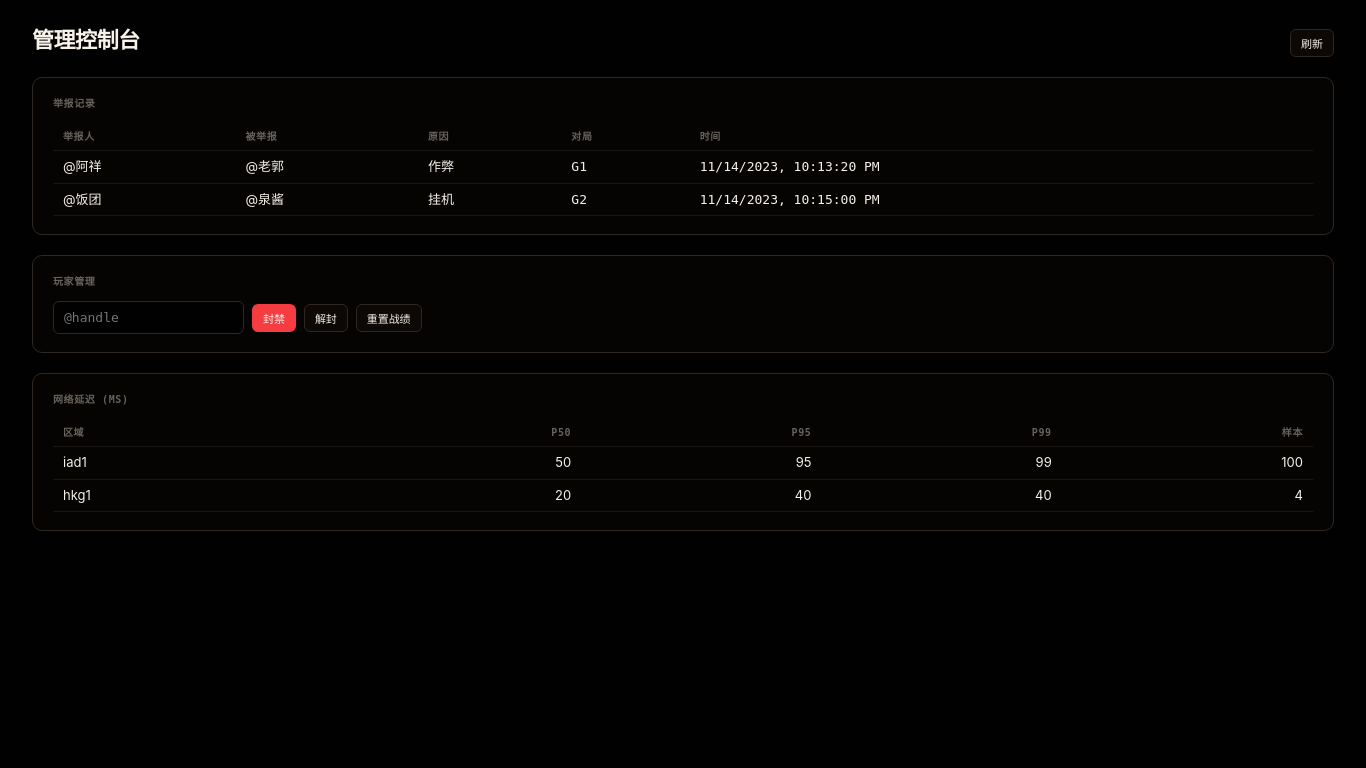
Test: AdminDashboard — moderation actions › bans the entered handle and shows confirmation
The image size is (1366, 768).
Check: the text "@老郭" is shown, box [236, 150, 418, 183]
Step 1. Type "@cheater" into the field named "玩家 handle" → (148,318), box [53, 301, 244, 334]
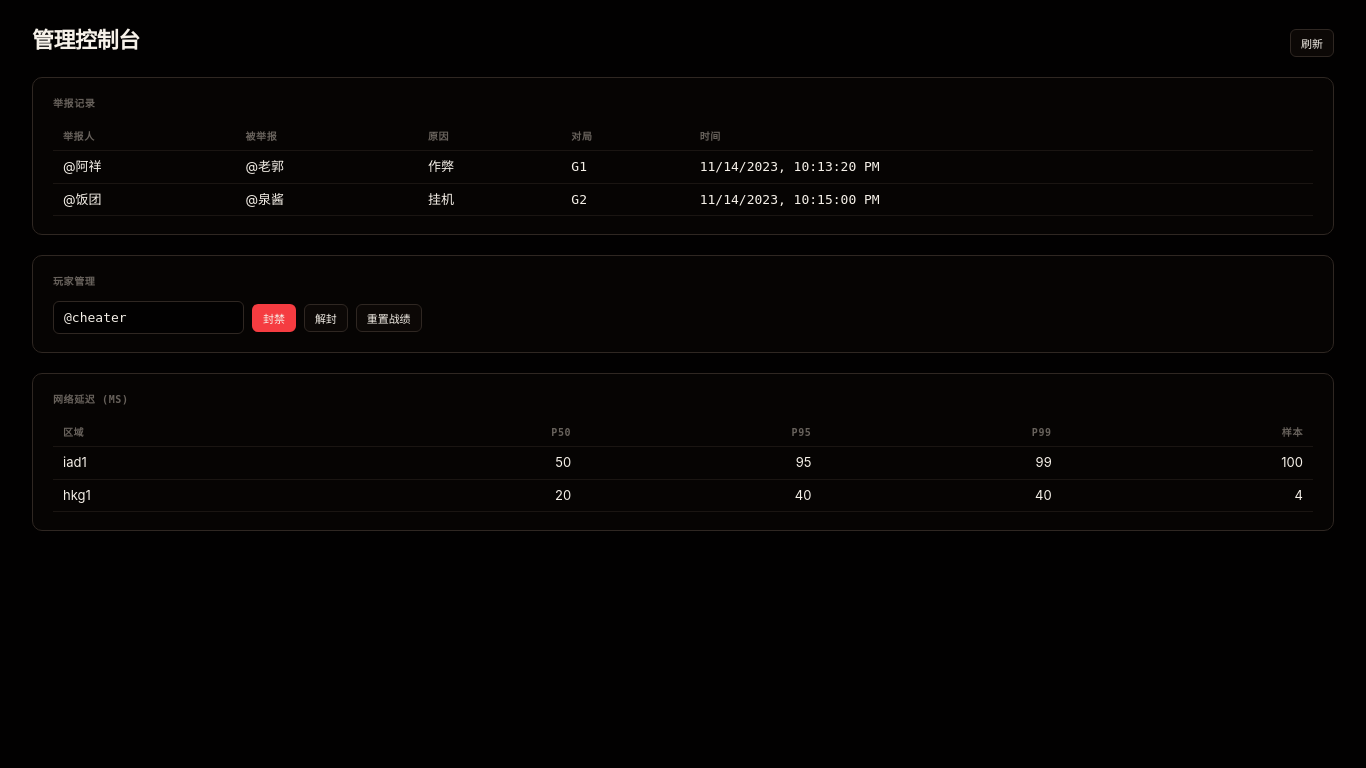
Step 2. Click the button "封禁" → (274,318), box [252, 304, 296, 332]
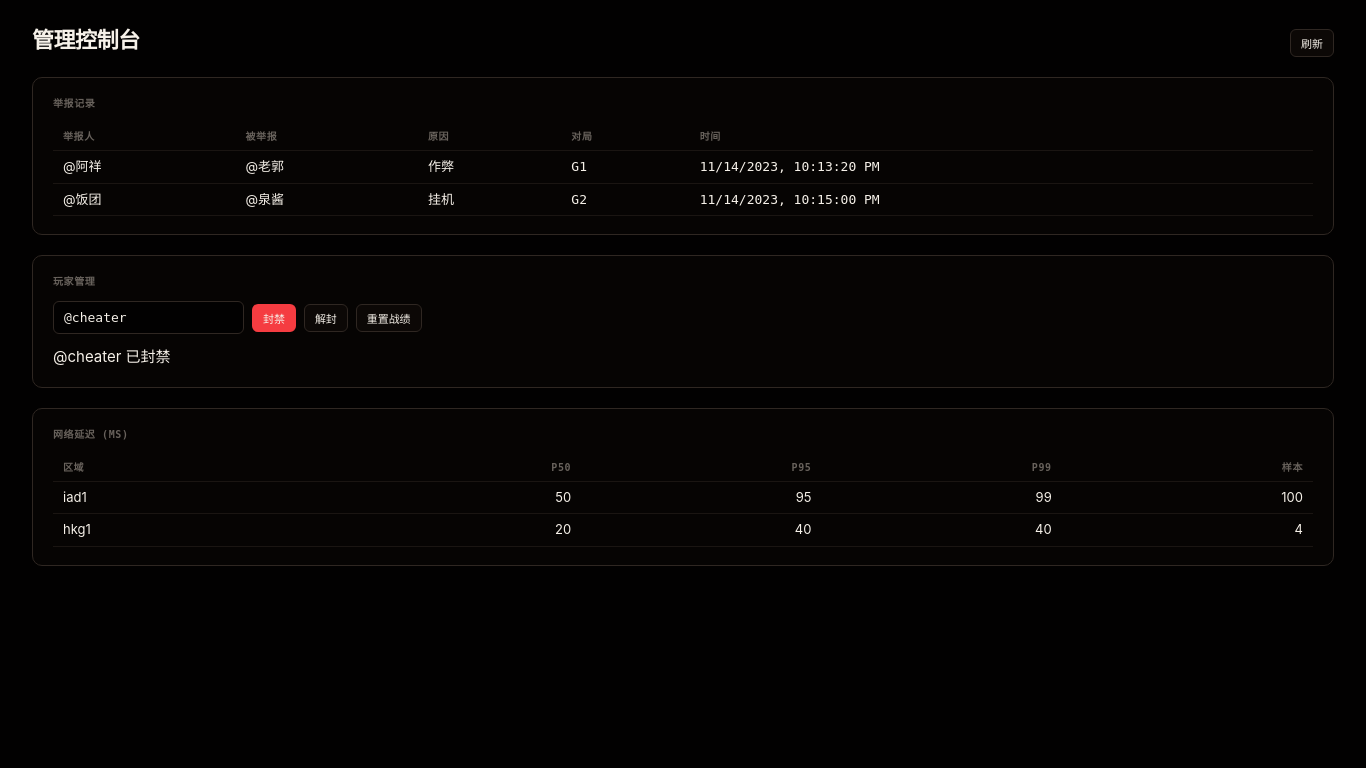
Check: the text "@cheater 已封禁" is shown, box [53, 347, 171, 366]
